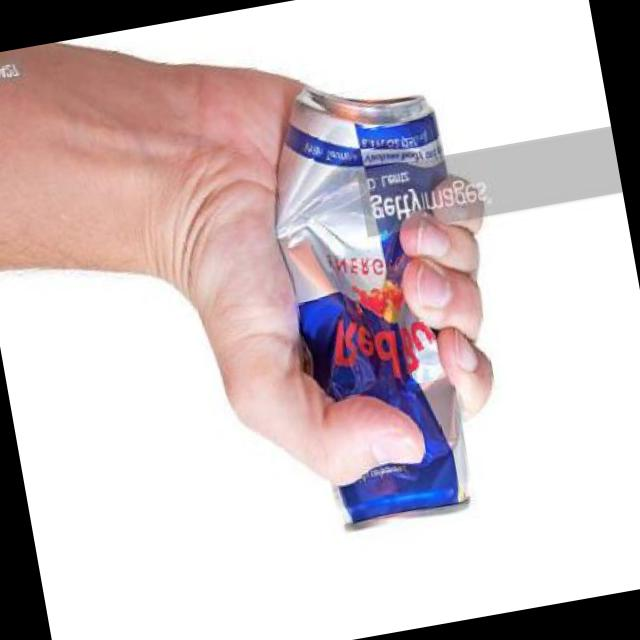Kaleng: (249, 62, 508, 539)
